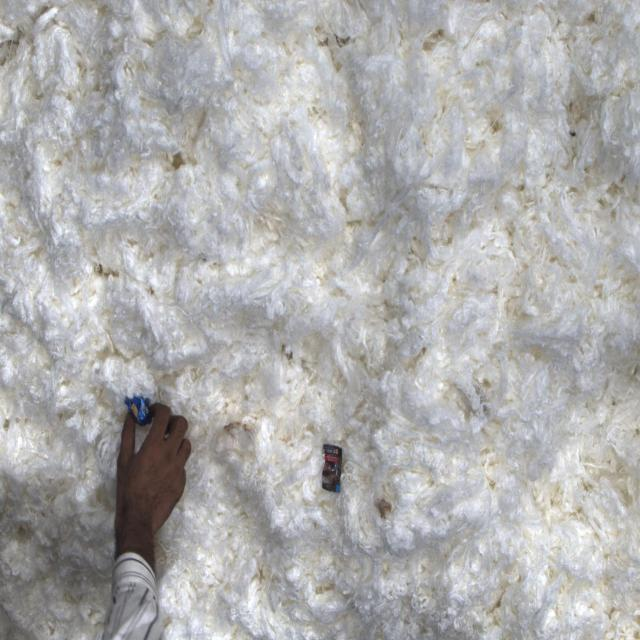dust: (317, 435, 345, 502), (124, 390, 153, 428)
